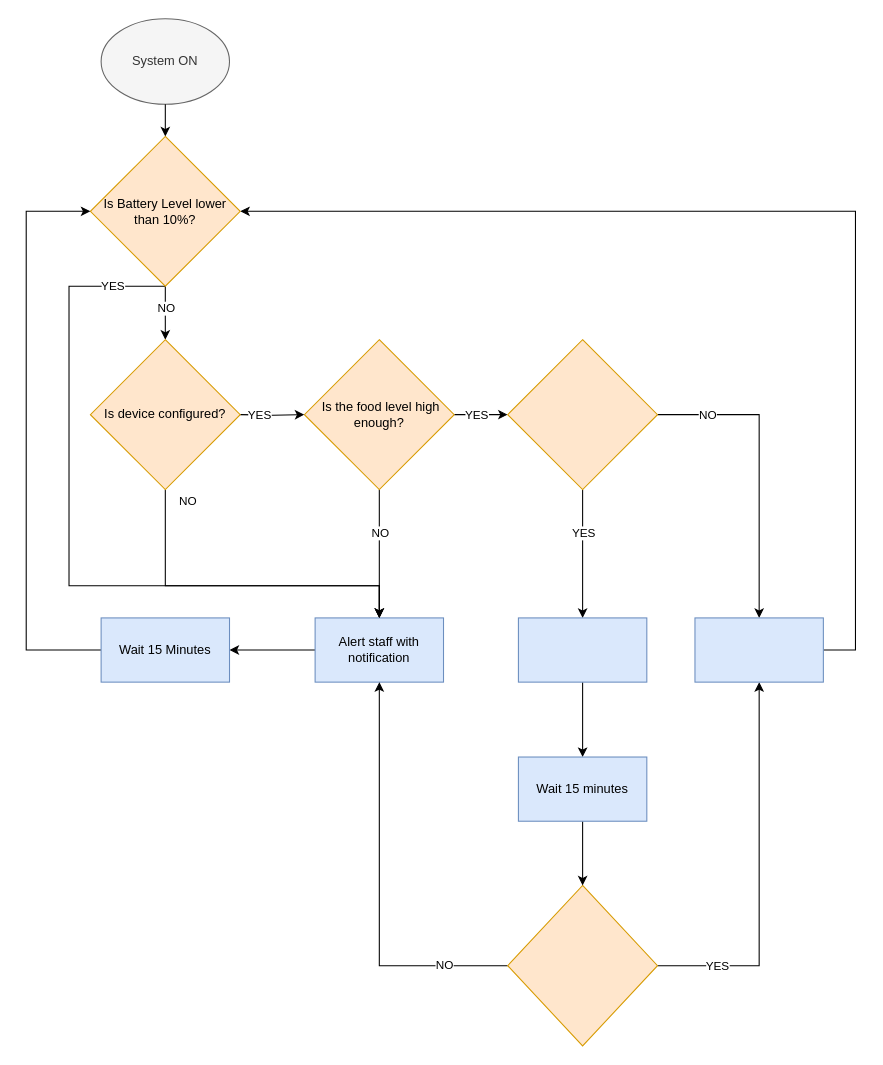
The diagram is 883 pixels wide and 1065 high, and some of its shapes have lost their labels. The box of each missing label's shape, as (x1, y1, x2, y2) in pixels:
Dispense food for pet until preset feeding amount is same as weight sensor: (517, 617, 647, 682)
Do nothing: (694, 617, 823, 682)
Has bowl weirght changed?: (507, 884, 658, 1046)
Is it set feeding time?: (507, 339, 658, 490)
